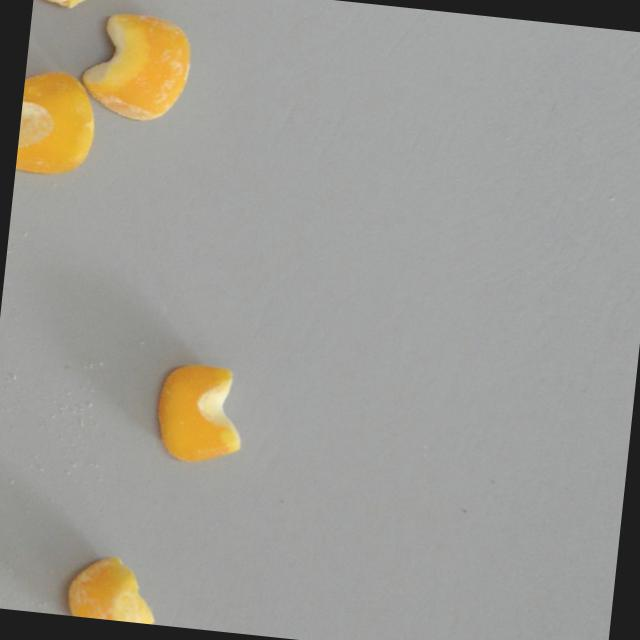no_canjicado: (150, 358, 248, 467)
pelicula: (77, 6, 195, 123), (14, 65, 97, 178), (63, 549, 162, 624), (31, 0, 109, 13)
